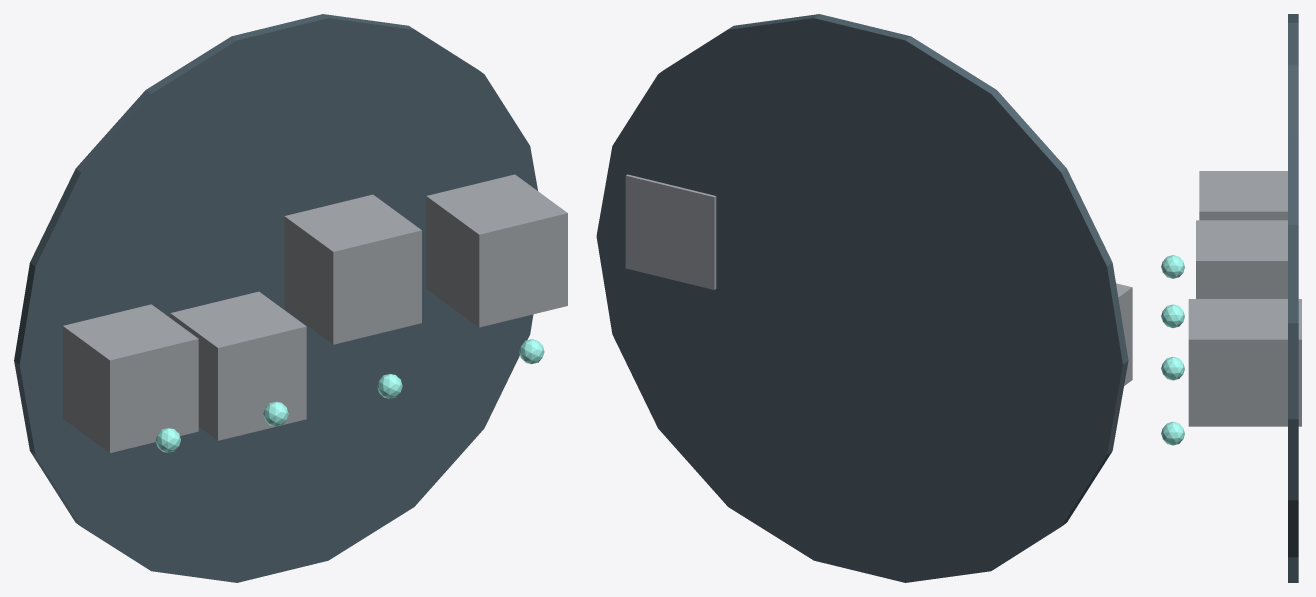
The model's file is 02_local_prop_cluster.glb.
3 renders of one model, left to right at view 1: azimuth 30°, elevation 25°; view 2: azimuth 150°, elevation 25°; view 3: azimuth 270°, elevation 25°, orthographic. The views are drawn at different scales.
Parts seen in each view (by area): view 1: scatter_base, tech_crate_3, tech_crate_2, tech_crate_0, tech_crate_1; view 2: scatter_base, tech_crate_3, tech_crate_0; view 3: tech_crate_3, tech_crate_2, scatter_base, tech_crate_0, status_light_2, status_light_1, status_light_3, status_light_0.
Part boxes in pixels (x1,y1,x2,y2): scatter_base: (14,14,537,582); tech_crate_3: (426,174,567,327); tech_crate_2: (284,194,421,344); tech_crate_0: (62,304,198,452); tech_crate_1: (170,291,306,440); scatter_base: (596,14,1128,582); tech_crate_3: (625,174,716,289); tech_crate_0: (1116,283,1132,385); tech_crate_3: (1188,299,1301,426); tech_crate_2: (1196,220,1287,298); scatter_base: (1288,14,1298,582); tech_crate_0: (1199,171,1287,220); status_light_2: (1161,356,1184,380); status_light_1: (1161,304,1184,327); status_light_3: (1161,421,1184,445); status_light_0: (1161,255,1184,278).
Bounding box in the file's own units: 1.9 × 1.87 × 0.4685.
